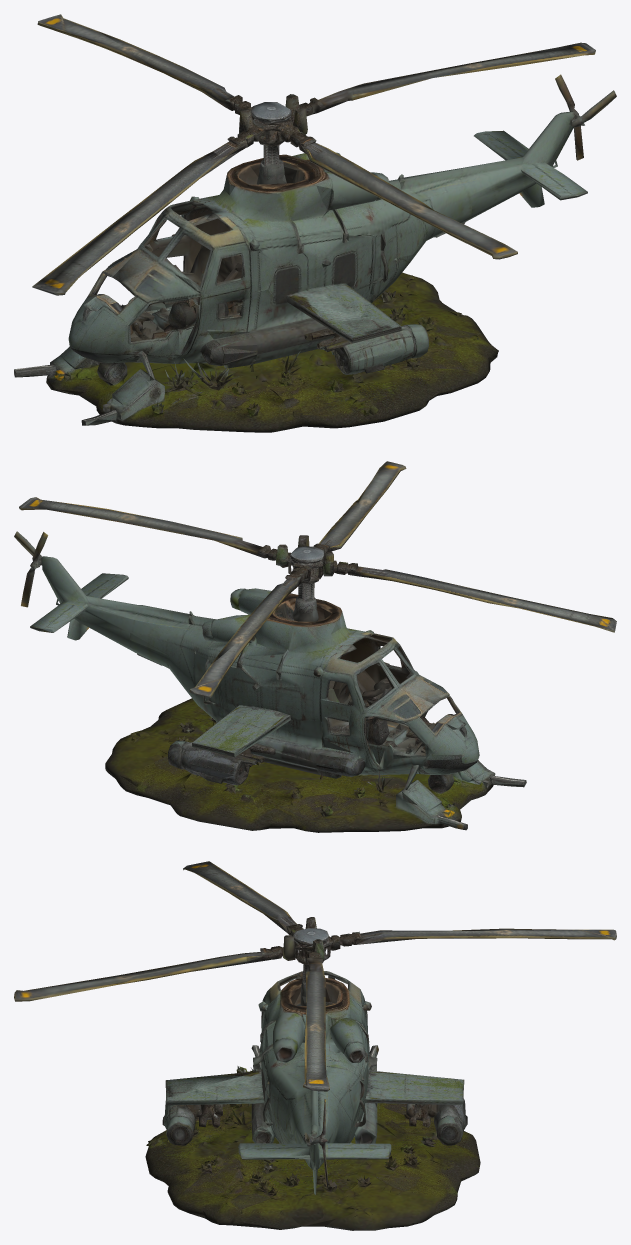
Rendered from HeliWreck.fbx.
3 views of the same model, one above another, from view 1: azimuth 30°, elevation 25°; view 2: azimuth 150°, elevation 25°; view 3: azimuth 270°, elevation 25° (orthographic). The views are drawn at different scales.
Visible parts, largest first — view 1: Mesh_0; view 2: Mesh_0; view 3: Mesh_0.
Part boxes in pixels (x1,y1,x2,y2): Mesh_0: [14, 14, 616, 432]; Mesh_0: [14, 461, 616, 832]; Mesh_0: [14, 861, 616, 1230].
Size of the model in its own units: 189 by 71.51 by 176.
1 material, 1 textured.
